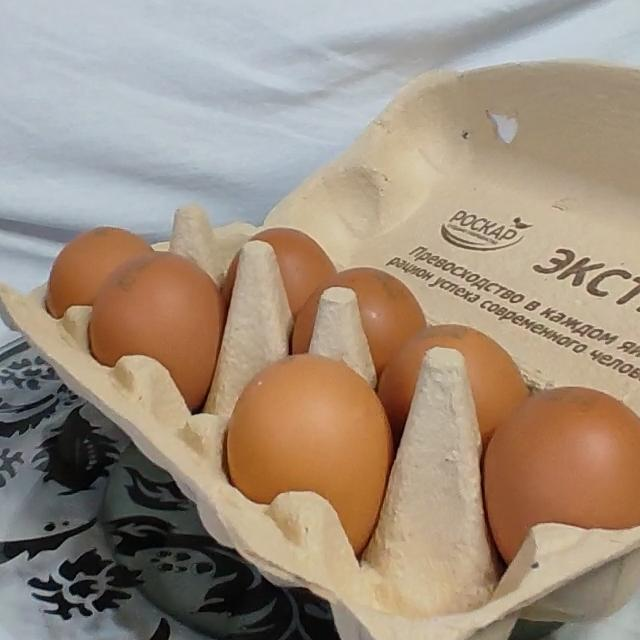egg: (23, 13, 640, 640)
